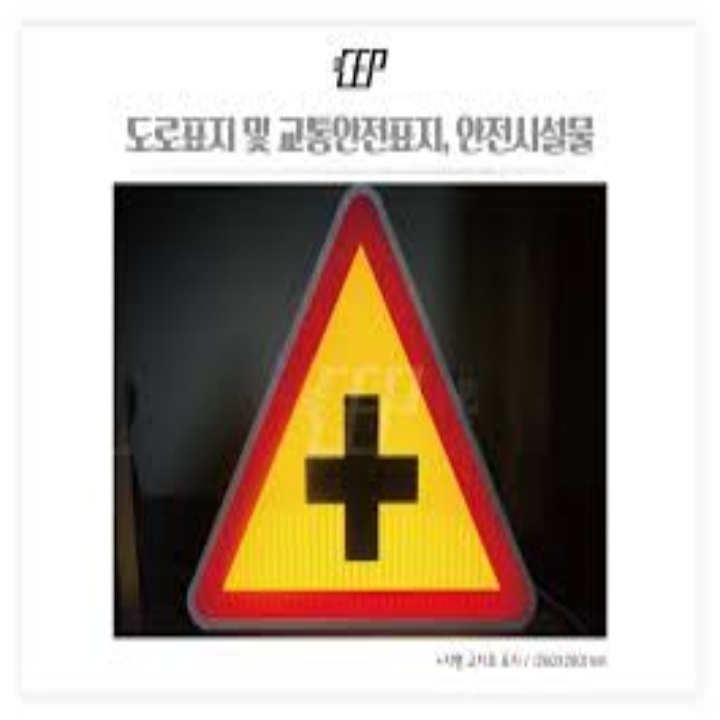inter: (301, 390, 427, 564)
